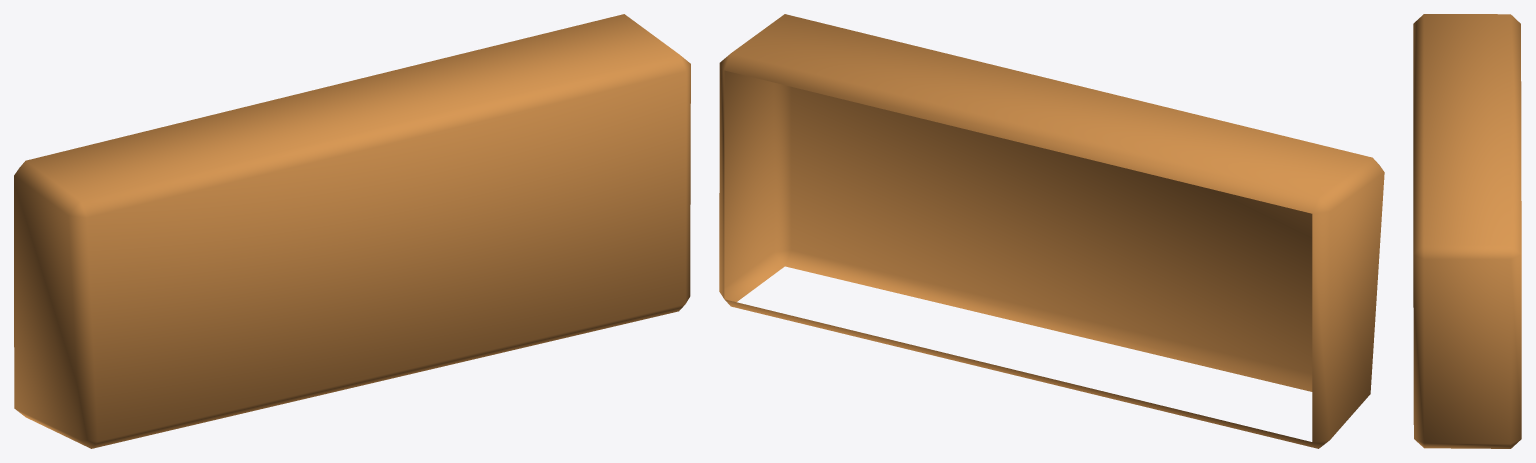
Rendered from block_f_lo.glb.
3 views of the same model, side by side, from view 1: azimuth 30°, elevation 25°; view 2: azimuth 150°, elevation 25°; view 3: azimuth 270°, elevation 25° (orthographic). The views are drawn at different scales.
Visible parts, largest first — view 1: block_f_lo; view 2: block_f_lo; view 3: block_f_lo.
Part boxes in pixels (x1,y1,x2,y2): block_f_lo: (14, 14, 690, 448); block_f_lo: (719, 14, 1384, 448); block_f_lo: (1413, 14, 1521, 448).
Bounding box in the file's own units: 1.9 × 0.7533 × 0.3624.
